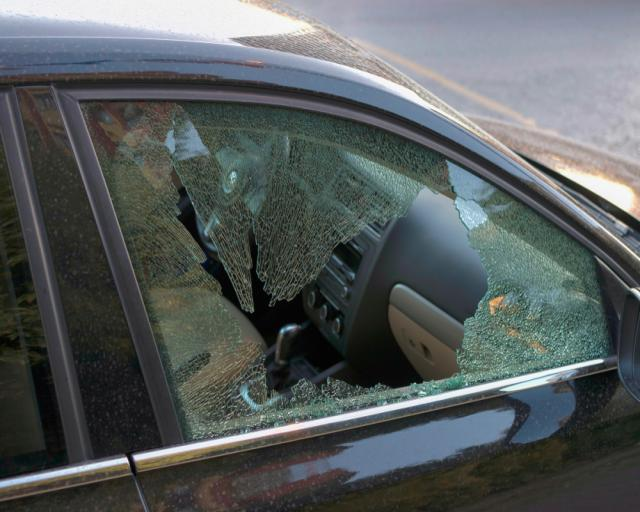glass shatter: (78, 101, 613, 444)
